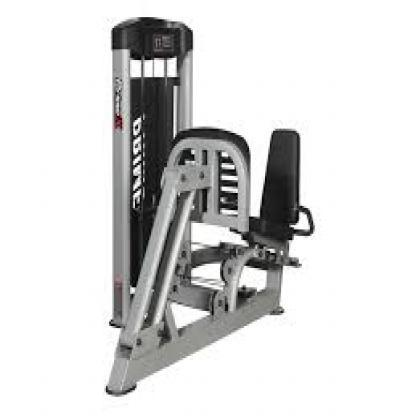leg press: (72, 16, 326, 395)
